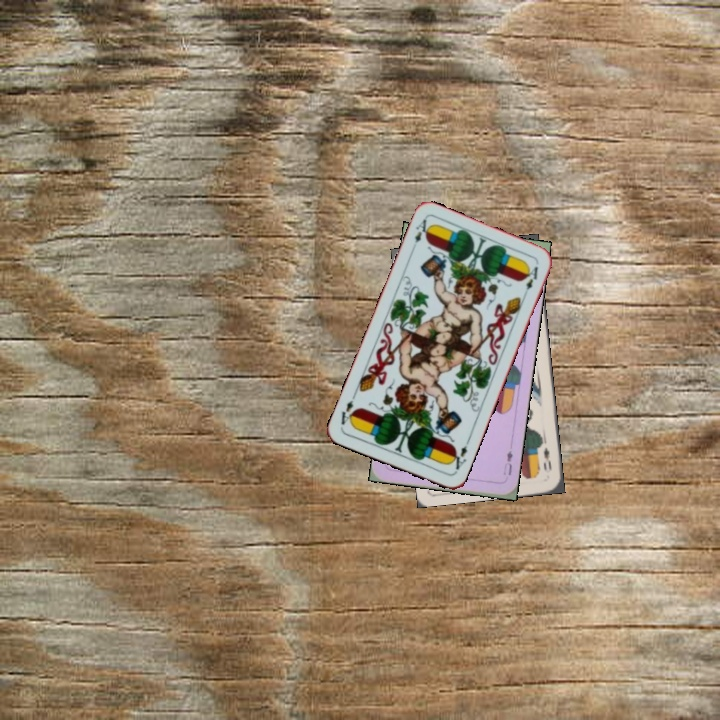EA: (408, 215, 433, 254), (446, 441, 470, 474)
EO: (539, 444, 554, 473)
EU: (499, 447, 515, 478)
